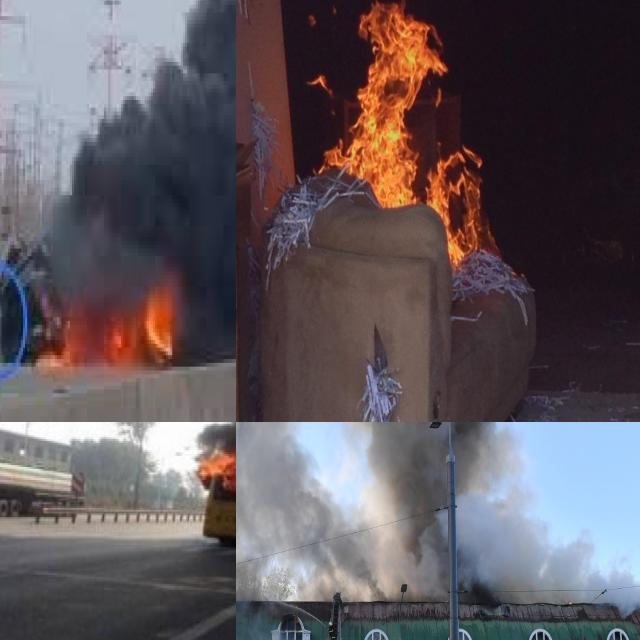fire: (315, 0, 493, 271), (34, 260, 178, 382)
smoke: (236, 422, 640, 611), (61, 0, 236, 351), (236, 616, 288, 640)
